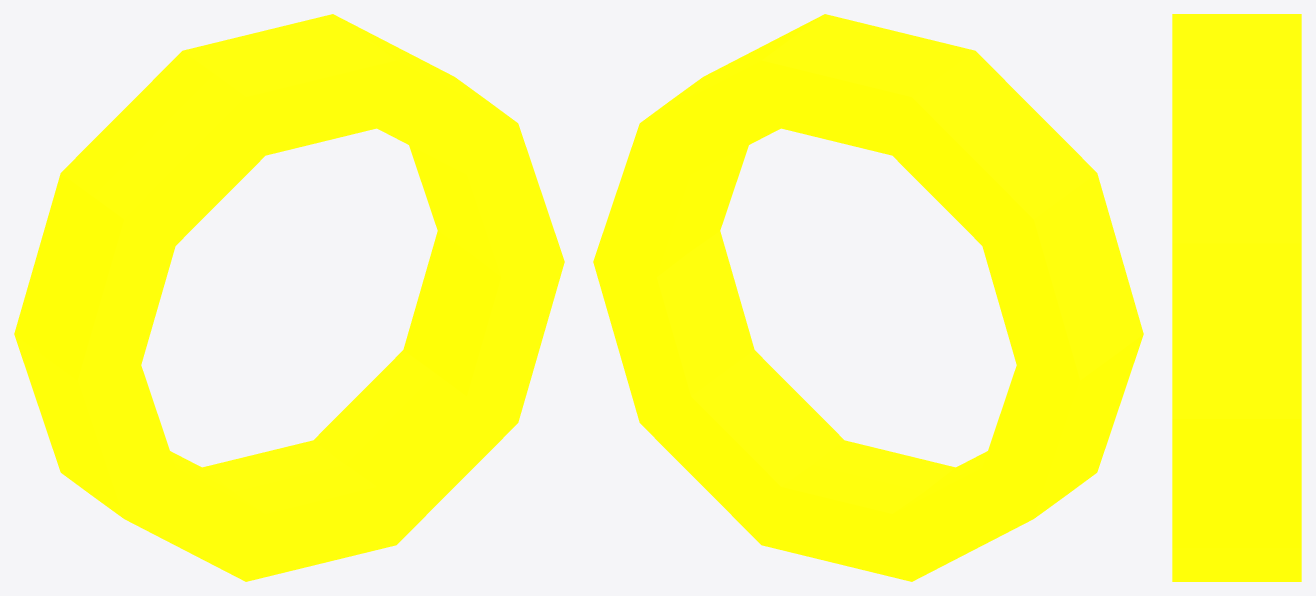
Rendered from Coin.fbx.
3 renders of one model, left to right at view 1: azimuth 30°, elevation 25°; view 2: azimuth 150°, elevation 25°; view 3: azimuth 270°, elevation 25°, orthographic.
Parts seen in each view (by area): view 1: Torus; view 2: Torus; view 3: Torus.
Part boxes in pixels (x1,y1,x2,y2): Torus: (14, 14, 564, 581); Torus: (593, 14, 1143, 581); Torus: (1172, 14, 1301, 581).
Bounding box in the file's own units: 230 × 219 × 51.96.
